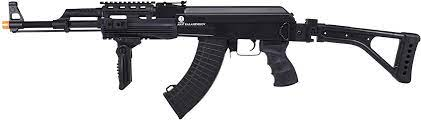gun: (2, 1, 421, 119)
